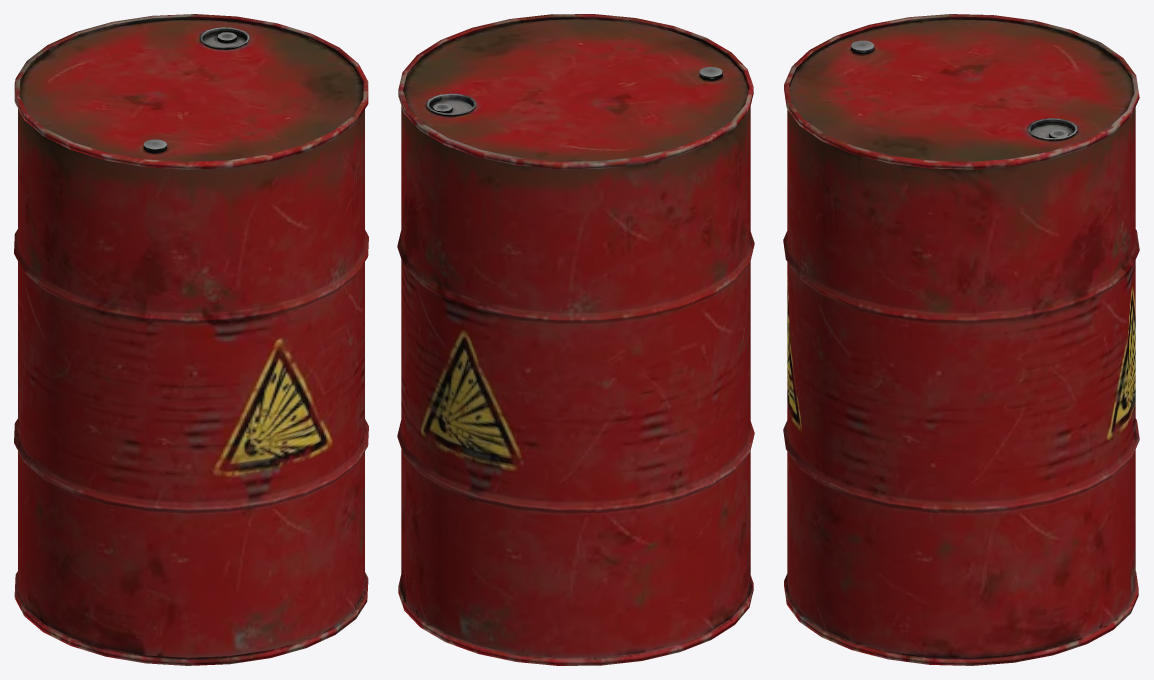
The model's file is barrel.glb.
The picture shows the model from 3 angles, left to right: view 1: azimuth 30°, elevation 25°; view 2: azimuth 150°, elevation 25°; view 3: azimuth 270°, elevation 25°; orthographic projection.
Parts seen in each view (by area): view 1: Barrel_01; view 2: Barrel_01; view 3: Barrel_01.
Part boxes in pixels (x1,y1,x2,y2): Barrel_01: (14,14,368,665); Barrel_01: (397,14,754,665); Barrel_01: (783,14,1139,665).
Bounding box in the file's own units: 0.5629 × 0.88 × 0.5629.
1 material, 1 textured.
